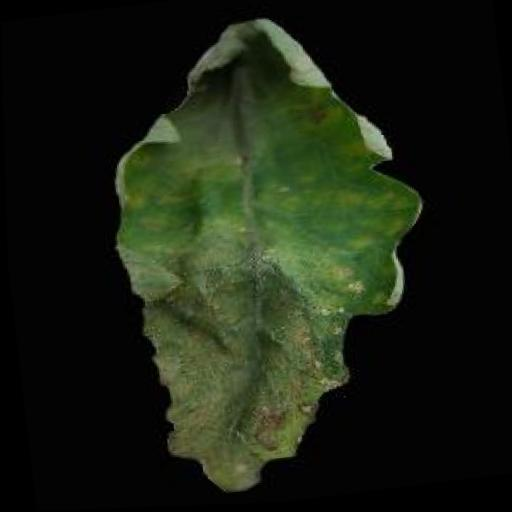Late Blight: (88, 6, 449, 505)
